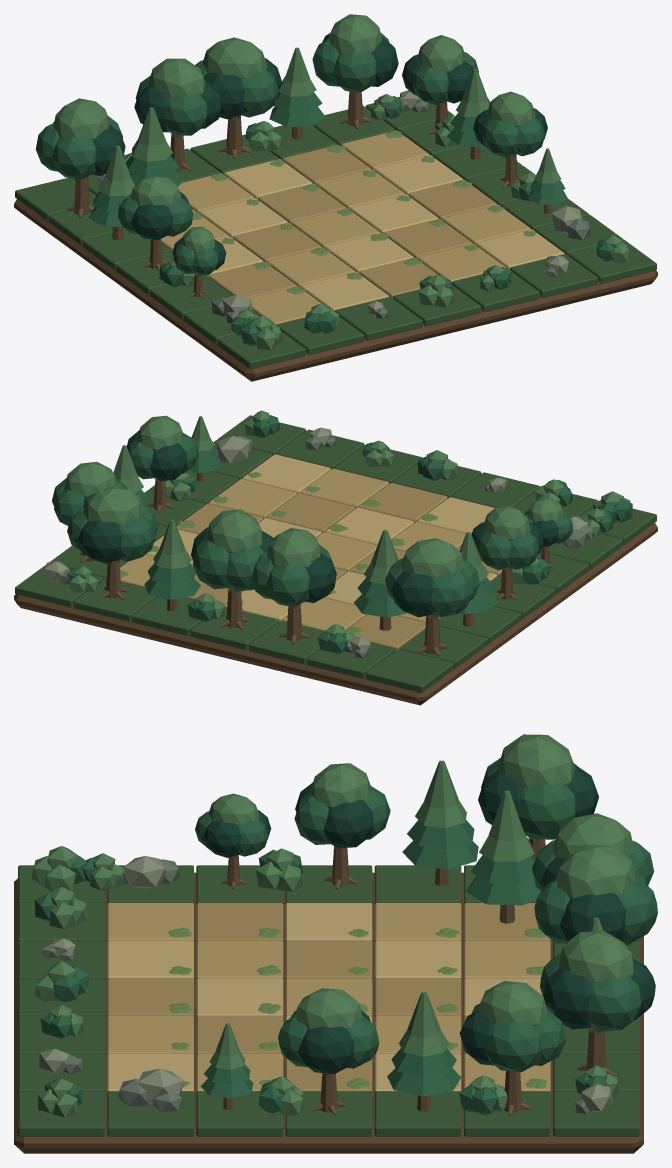
The model's file is forest.glb.
3 renders of one model, top to bottom at view 1: azimuth 30°, elevation 25°; view 2: azimuth 150°, elevation 25°; view 3: azimuth 270°, elevation 25°, orthographic. The views are drawn at different scales.
Visible parts, largest first — view 1: Forest_Diorama_Soil_Base, Tree_Rounded_09, Tree_Rounded_05, Tree_Rounded_03, Tree_Rounded_02, Tree_Rounded_11, Tree_Rounded_08, Tree_Rounded_06, Tree_Spire_04, Tree_Spire_01, Tree_Rounded_12, Tree_Spire_10 (+59 smaller); view 2: Forest_Diorama_Soil_Base, Tree_Rounded_09, Tree_Rounded_05, Tree_Rounded_02, Tree_Rounded_03, Tree_Rounded_08, Tree_Rounded_11, Tree_Spire_04, Tile_Forest_00_06, Tree_Spire_01, Tree_Rounded_06, Tile_Path_05_01 (+58 smaller); view 3: Forest_Diorama_Soil_Base, Tree_Rounded_05, Tree_Rounded_03, Tree_Rounded_09, Tree_Rounded_06, Tree_Rounded_08, Tree_Rounded_11, Tree_Spire_01, Tree_Spire_10, Tree_Spire_07, Tree_Rounded_12, Tree_Rounded_02 (+57 smaller).
Boxes of the visible parts, box(x1,y1,x2,y2) form: Forest_Diorama_Soil_Base: box(14, 199, 657, 381); Tree_Rounded_09: box(35, 98, 125, 218); Tree_Rounded_05: box(312, 14, 398, 129); Tree_Rounded_03: box(195, 37, 281, 158); Tree_Rounded_02: box(134, 58, 221, 170); Tree_Rounded_11: box(118, 175, 192, 270); Tree_Rounded_08: box(473, 91, 547, 187); Tree_Rounded_06: box(402, 35, 478, 134); Tree_Spire_04: box(269, 47, 325, 139); Tree_Spire_01: box(126, 107, 183, 186); Tree_Rounded_12: box(172, 226, 226, 298); Tree_Spire_10: box(88, 145, 134, 240); Forest_Diorama_Soil_Base: box(14, 523, 657, 705); Tree_Rounded_09: box(385, 538, 479, 656); Tree_Rounded_05: box(67, 486, 158, 599); Tree_Rounded_02: box(251, 528, 336, 644); Tree_Rounded_03: box(191, 509, 273, 630); Tree_Rounded_08: box(127, 415, 198, 512); Tree_Rounded_11: box(471, 505, 543, 600); Tree_Spire_04: box(144, 519, 200, 611); Tile_Forest_00_06: box(365, 649, 454, 693); Tree_Spire_01: box(354, 530, 406, 630); Tree_Rounded_06: box(52, 461, 127, 562); Tile_Path_05_01: box(242, 454, 330, 494); Forest_Diorama_Soil_Base: box(14, 872, 643, 1153); Tree_Rounded_05: box(540, 930, 655, 1076); Tree_Rounded_03: box(534, 844, 657, 945); Tree_Rounded_09: box(478, 734, 598, 857); Tree_Rounded_06: box(459, 981, 566, 1115); Tree_Rounded_08: box(278, 988, 379, 1115); Tree_Rounded_11: box(294, 763, 390, 889); Tree_Spire_01: box(465, 790, 540, 923); Tree_Spire_10: box(402, 760, 478, 885); Tree_Spire_07: box(387, 991, 461, 1111); Tree_Rounded_12: box(195, 793, 271, 889); Tree_Rounded_02: box(532, 813, 654, 890).
Bounding box in the file's own units: 10.9 × 3.29 × 10.84.
